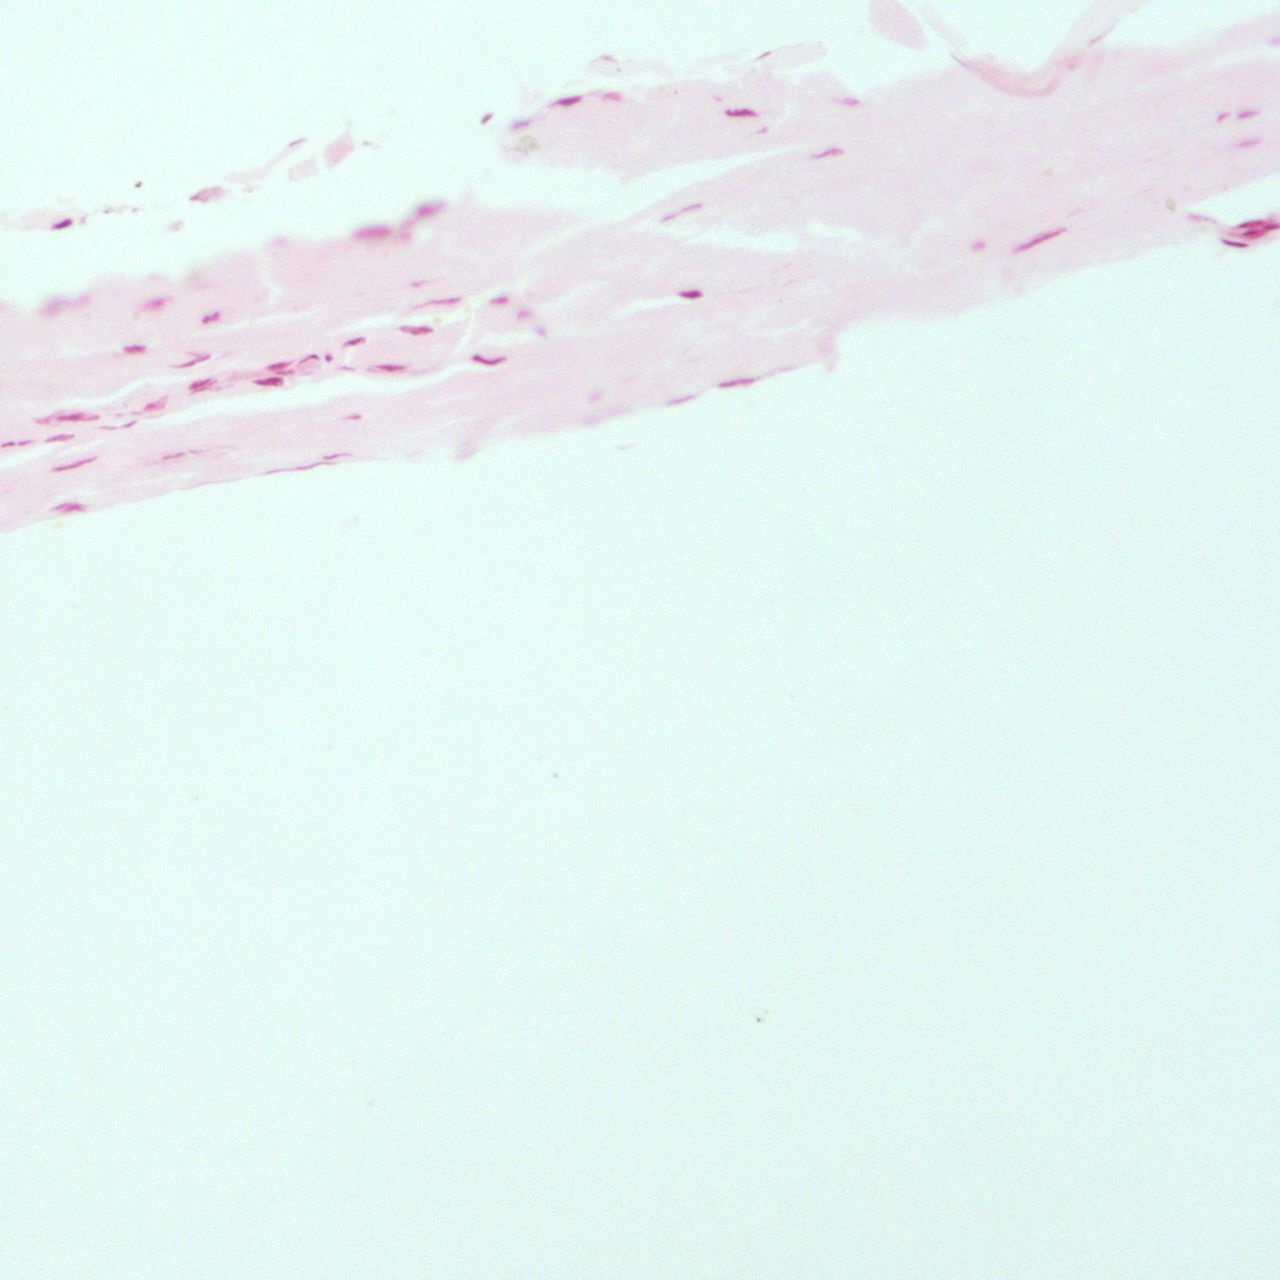dust: (134, 181, 144, 188)
nucleus-AC: (1009, 225, 1065, 256), (260, 459, 338, 476), (660, 199, 704, 224), (49, 454, 97, 474), (46, 498, 89, 518), (413, 294, 463, 309), (175, 350, 210, 372), (719, 374, 756, 393), (159, 445, 204, 459), (552, 91, 584, 110), (97, 418, 139, 431), (1217, 233, 1247, 251), (666, 392, 697, 408), (813, 145, 843, 163), (415, 200, 440, 220), (189, 376, 216, 394), (470, 353, 506, 366), (355, 225, 392, 238), (397, 324, 435, 335), (1233, 216, 1264, 230), (42, 431, 75, 444), (1233, 105, 1259, 122), (142, 395, 166, 411), (56, 411, 98, 421), (142, 297, 165, 312), (50, 216, 75, 230), (1235, 137, 1261, 150), (373, 362, 408, 372), (200, 311, 222, 325), (510, 117, 531, 131), (726, 108, 757, 117), (253, 376, 282, 386), (1242, 229, 1267, 239), (298, 353, 319, 365), (479, 110, 495, 125), (265, 360, 290, 369), (322, 451, 350, 459), (408, 277, 425, 290), (343, 338, 365, 347), (679, 290, 702, 298), (1262, 222, 1280, 232), (753, 125, 768, 137), (124, 345, 145, 353), (1211, 113, 1230, 121), (604, 91, 621, 100), (842, 97, 859, 105), (536, 326, 547, 338), (489, 297, 508, 304), (347, 413, 363, 420), (516, 309, 530, 318), (18, 438, 33, 445), (973, 241, 985, 250), (339, 365, 352, 372), (275, 369, 291, 375), (325, 354, 332, 361)
